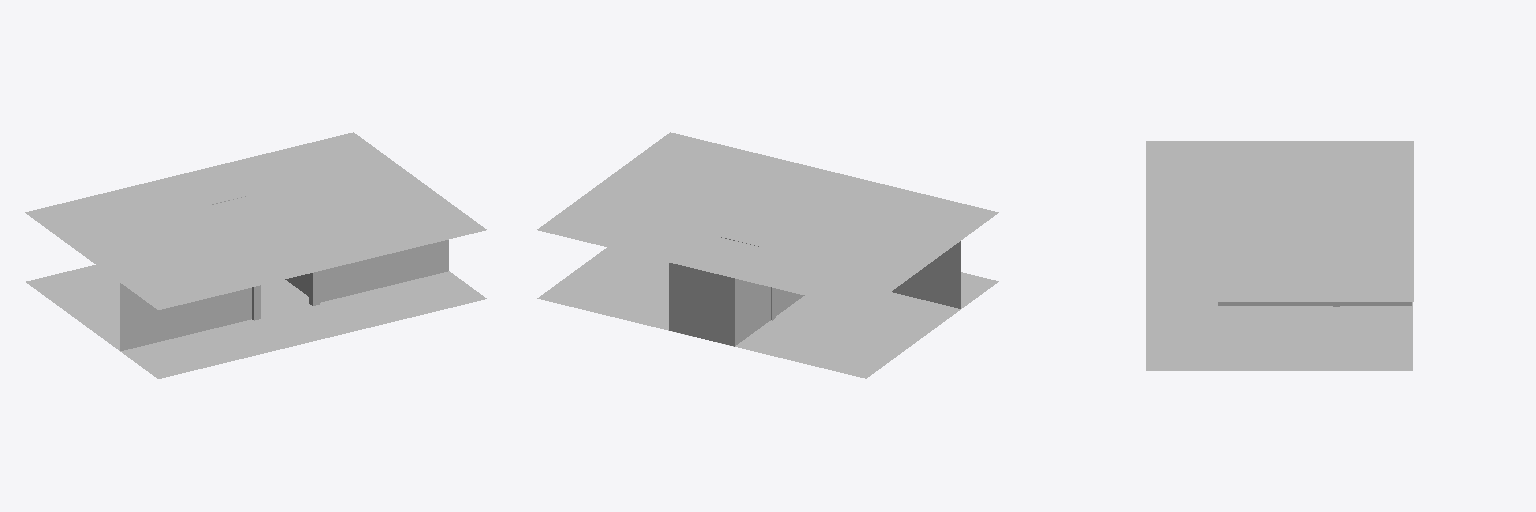
The model's file is MainMenu.obj.
The picture shows the model from 3 angles: view 1: azimuth 30°, elevation 25°; view 2: azimuth 150°, elevation 25°; view 3: azimuth 270°, elevation 25°; orthographic projection.
Visible parts, largest first — view 1: Plane(6), Plane(3), Plane(4), Plane(5); view 2: Plane(6), Plane(3), Plane(2), Plane(4), Plane(1); view 3: Plane(6), Plane(3), Plane(0).
Part boxes in pixels (bbox=[...]): Plane(6): bbox=[25, 132, 486, 309]; Plane(3): bbox=[26, 265, 486, 378]; Plane(4): bbox=[120, 283, 251, 350]; Plane(5): bbox=[320, 240, 448, 302]; Plane(6): bbox=[537, 132, 998, 309]; Plane(3): bbox=[537, 247, 998, 378]; Plane(2): bbox=[669, 263, 734, 346]; Plane(4): bbox=[892, 241, 960, 308]; Plane(1): bbox=[735, 279, 804, 345]; Plane(6): bbox=[1146, 141, 1413, 301]; Plane(3): bbox=[1146, 302, 1412, 370]; Plane(0): bbox=[1223, 302, 1411, 305].
Bounding box in the file's own units: 50 × 10.18 × 35.18.